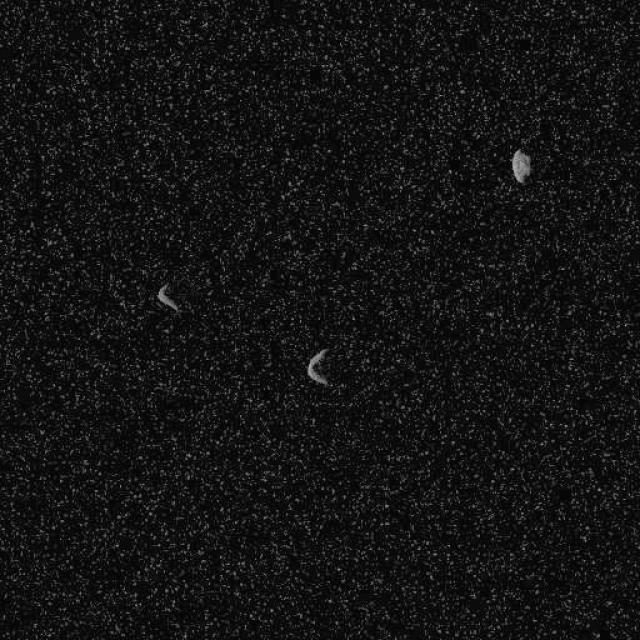D2: (306, 347, 332, 388), (155, 280, 181, 312), (510, 148, 531, 184)
